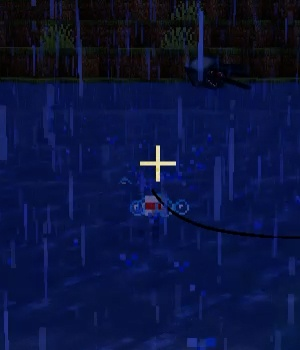up: (140, 193, 169, 223)
